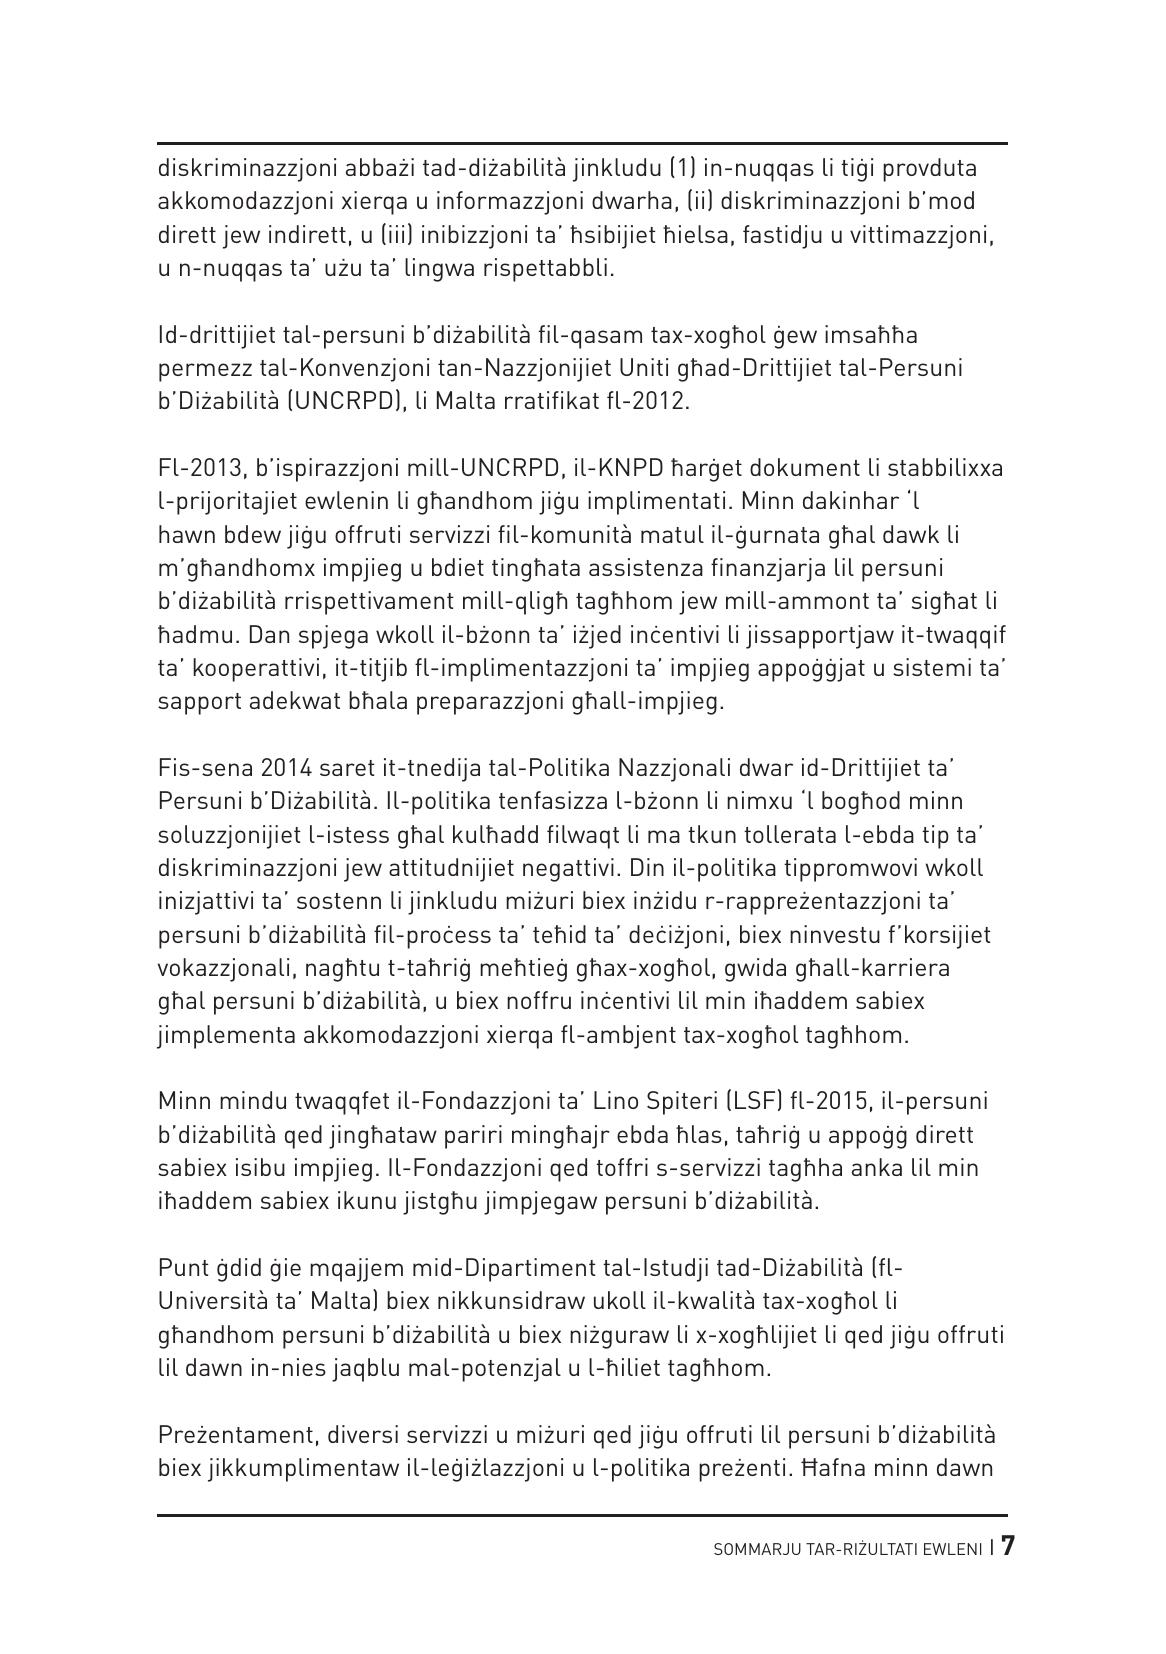text: (144, 151, 1023, 1501)
